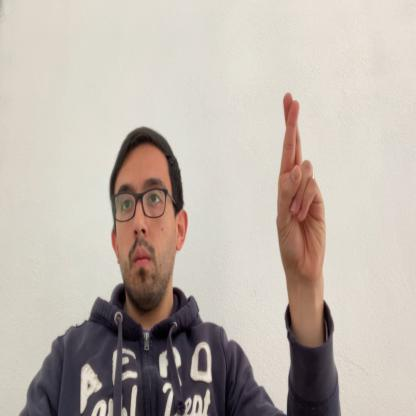R: (274, 92, 326, 284)
